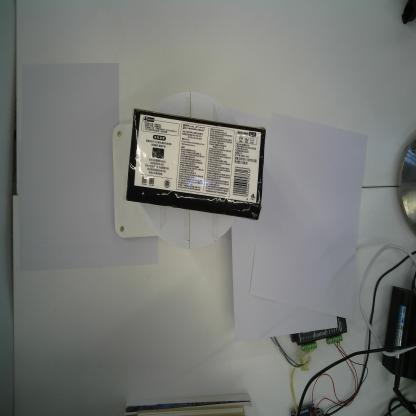Tissue: (124, 105, 266, 223)
